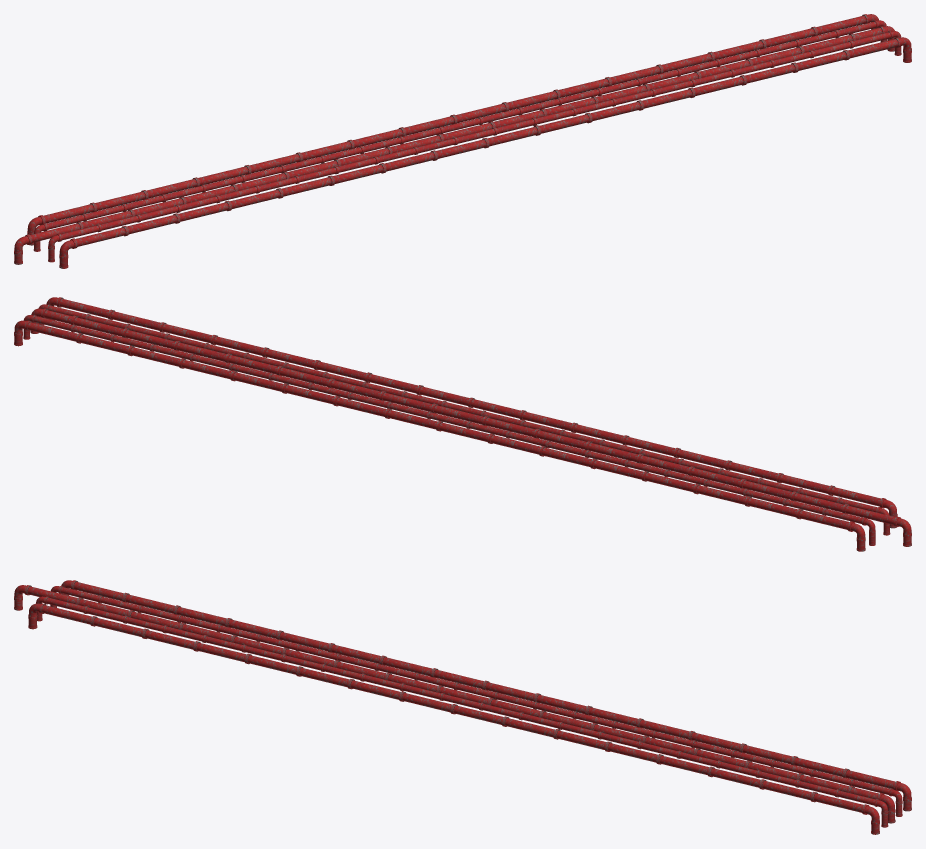
Rendered from Pipe .fbx.
The picture shows the model from 3 angles, top to bottom: view 1: azimuth 30°, elevation 25°; view 2: azimuth 150°, elevation 25°; view 3: azimuth 330°, elevation 25°; orthographic projection.
Visible parts, largest first — view 1: Pipe_6.021; view 2: Pipe_6.021; view 3: Pipe_6.021.
Boxes of the visible parts, x1,y1,x2,y2 form: Pipe_6.021: (14, 14, 911, 268); Pipe_6.021: (14, 297, 911, 551); Pipe_6.021: (14, 580, 911, 834).
Size of the model in its own units: 3615 by 100 by 263.
Materials: 2 (2 with a texture image).
